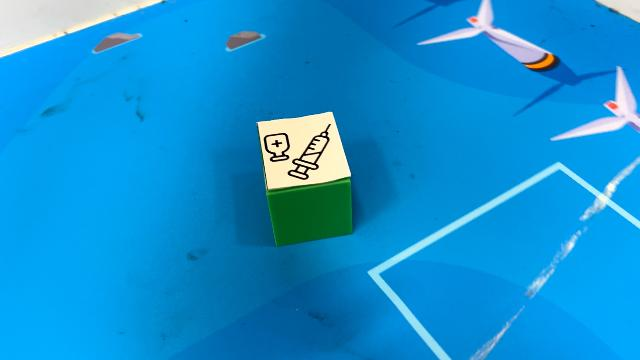syringe: (256, 110, 356, 248)
